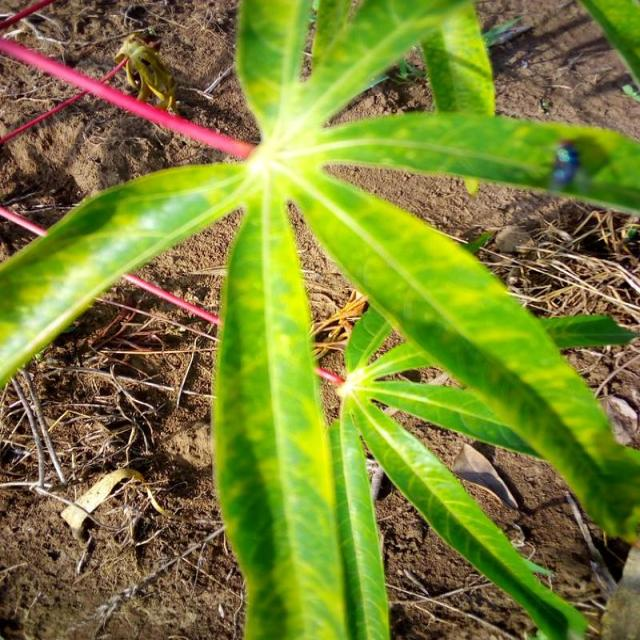cassava leaf: (1, 0, 638, 638), (211, 174, 348, 638)
